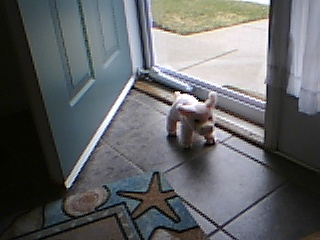piggy: (165, 89, 220, 150)
